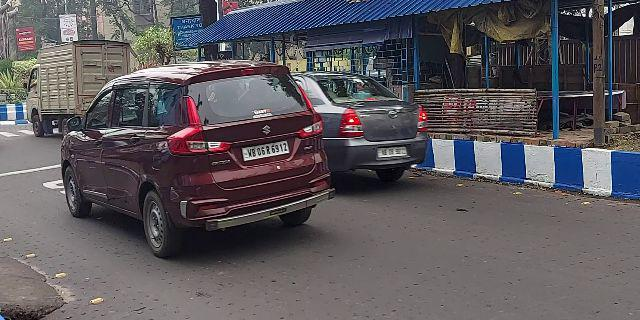Car: (56, 57, 328, 238), (296, 62, 439, 179)
Minitruck: (22, 40, 134, 133)
